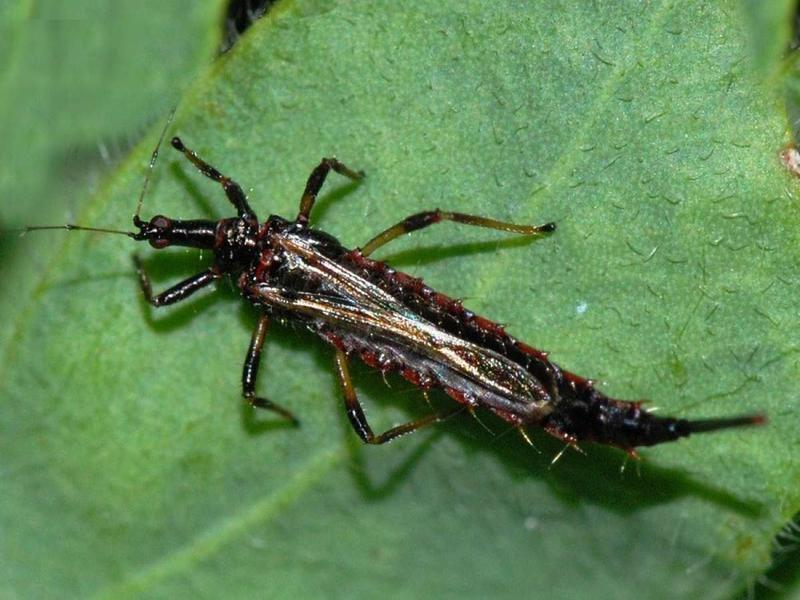Thrips: (136, 176, 702, 483)
